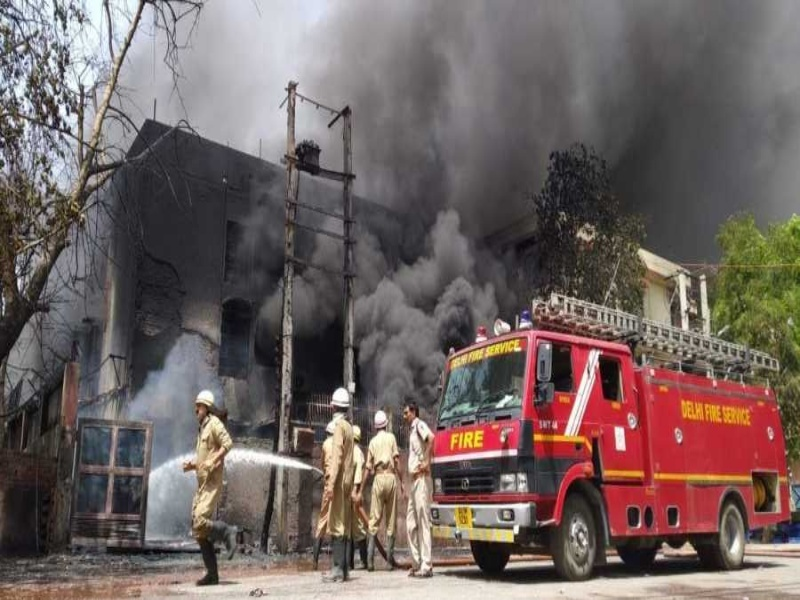smoke: (312, 1, 796, 350)
